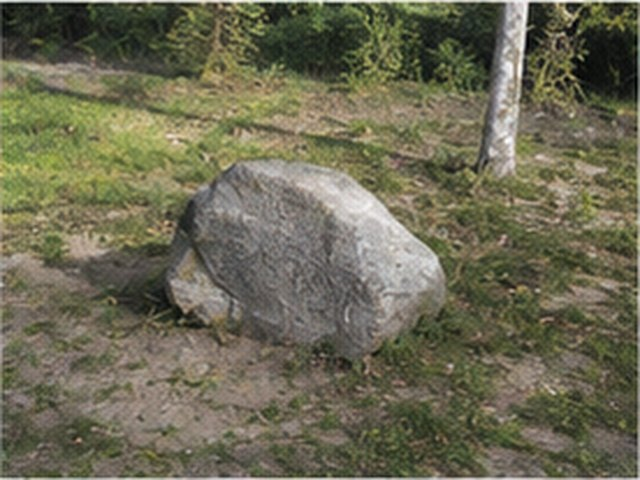tower: (166, 160, 444, 358)
